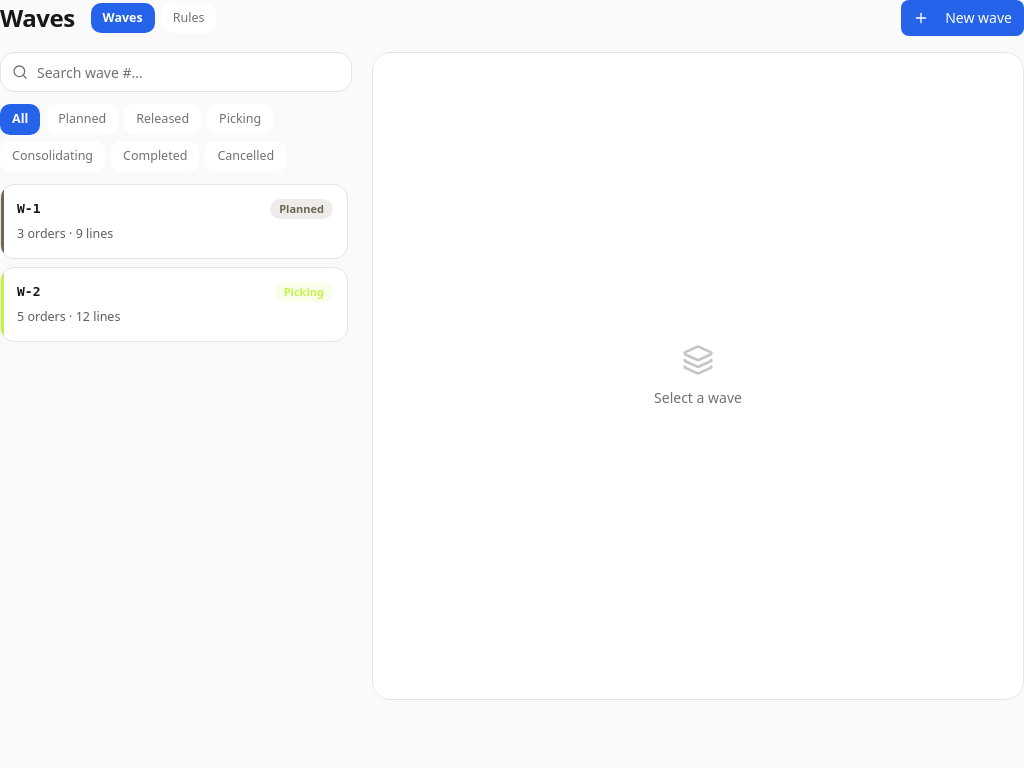
WavesPage -- board › New wave button opens the create-wave dialog
The width and height of the screenshot is (1024, 768).
Click the button with test id "new-wave-button".
click(963, 18)  # box [901, 0, 1023, 36]
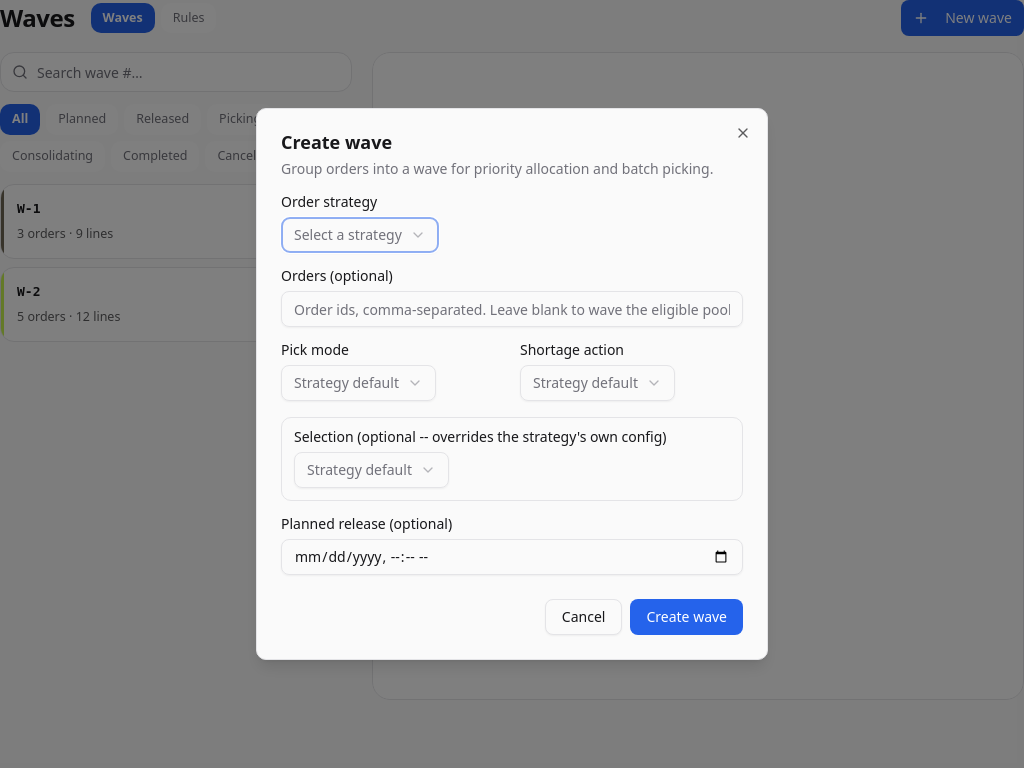
Expected: the dialog with test id "create-wave-dialog" is shown, [256, 108, 768, 660]
